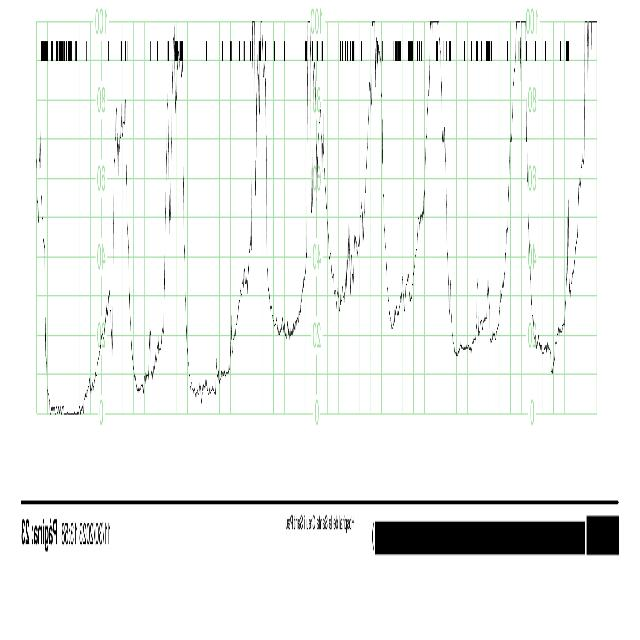contraction: (158, 23, 200, 394), (500, 21, 540, 348), (419, 21, 457, 353), (299, 21, 338, 290), (362, 20, 391, 324), (246, 17, 274, 324), (113, 118, 138, 388), (38, 145, 52, 407), (102, 294, 113, 350)
